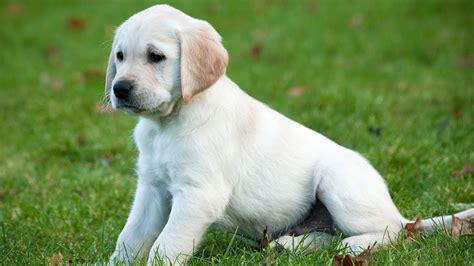dog: (105, 5, 472, 266)
